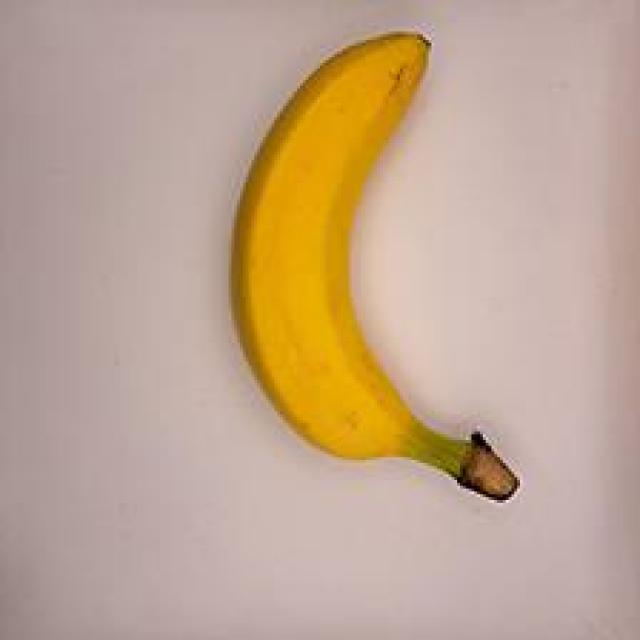Ripe: (188, 16, 560, 526)
